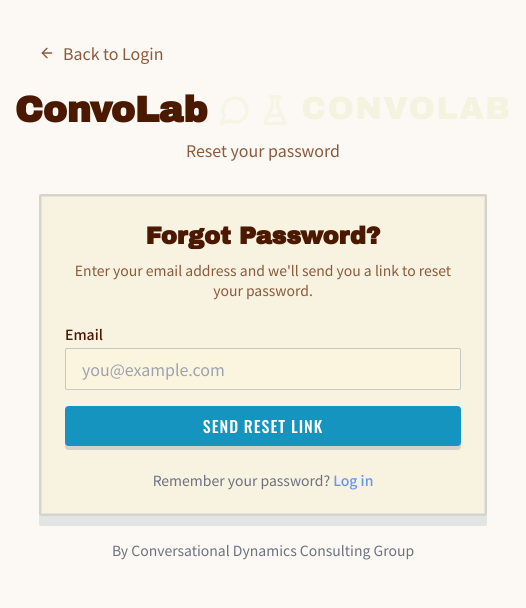
Test: ForgotPasswordPage › Form Submission › should handle network errors gracefully
Type "test@example.com" into the field labelled "Email". click: (263, 368)
box: [65, 348, 461, 390]
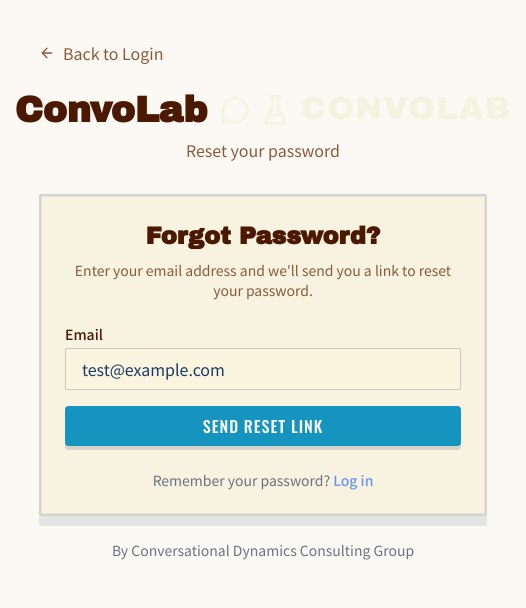
Click the button "Send Reset Link". click: (263, 426)
box: [65, 406, 461, 446]
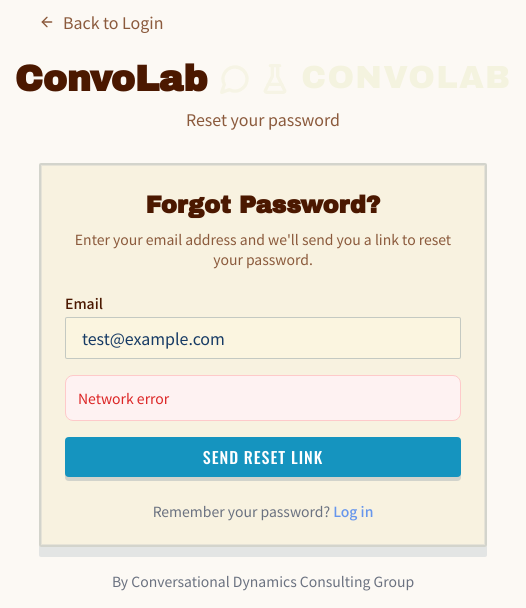
Now the text "Network error" is shown, box [65, 374, 461, 420]
